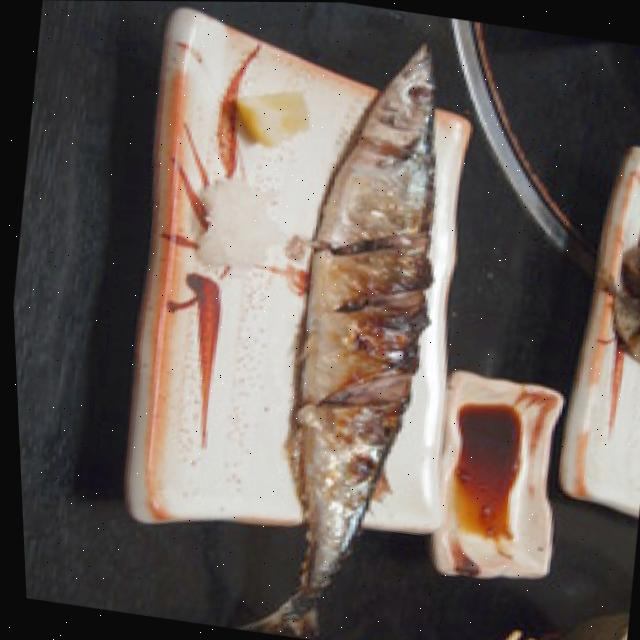熟制海鲜: (223, 1, 490, 640)
